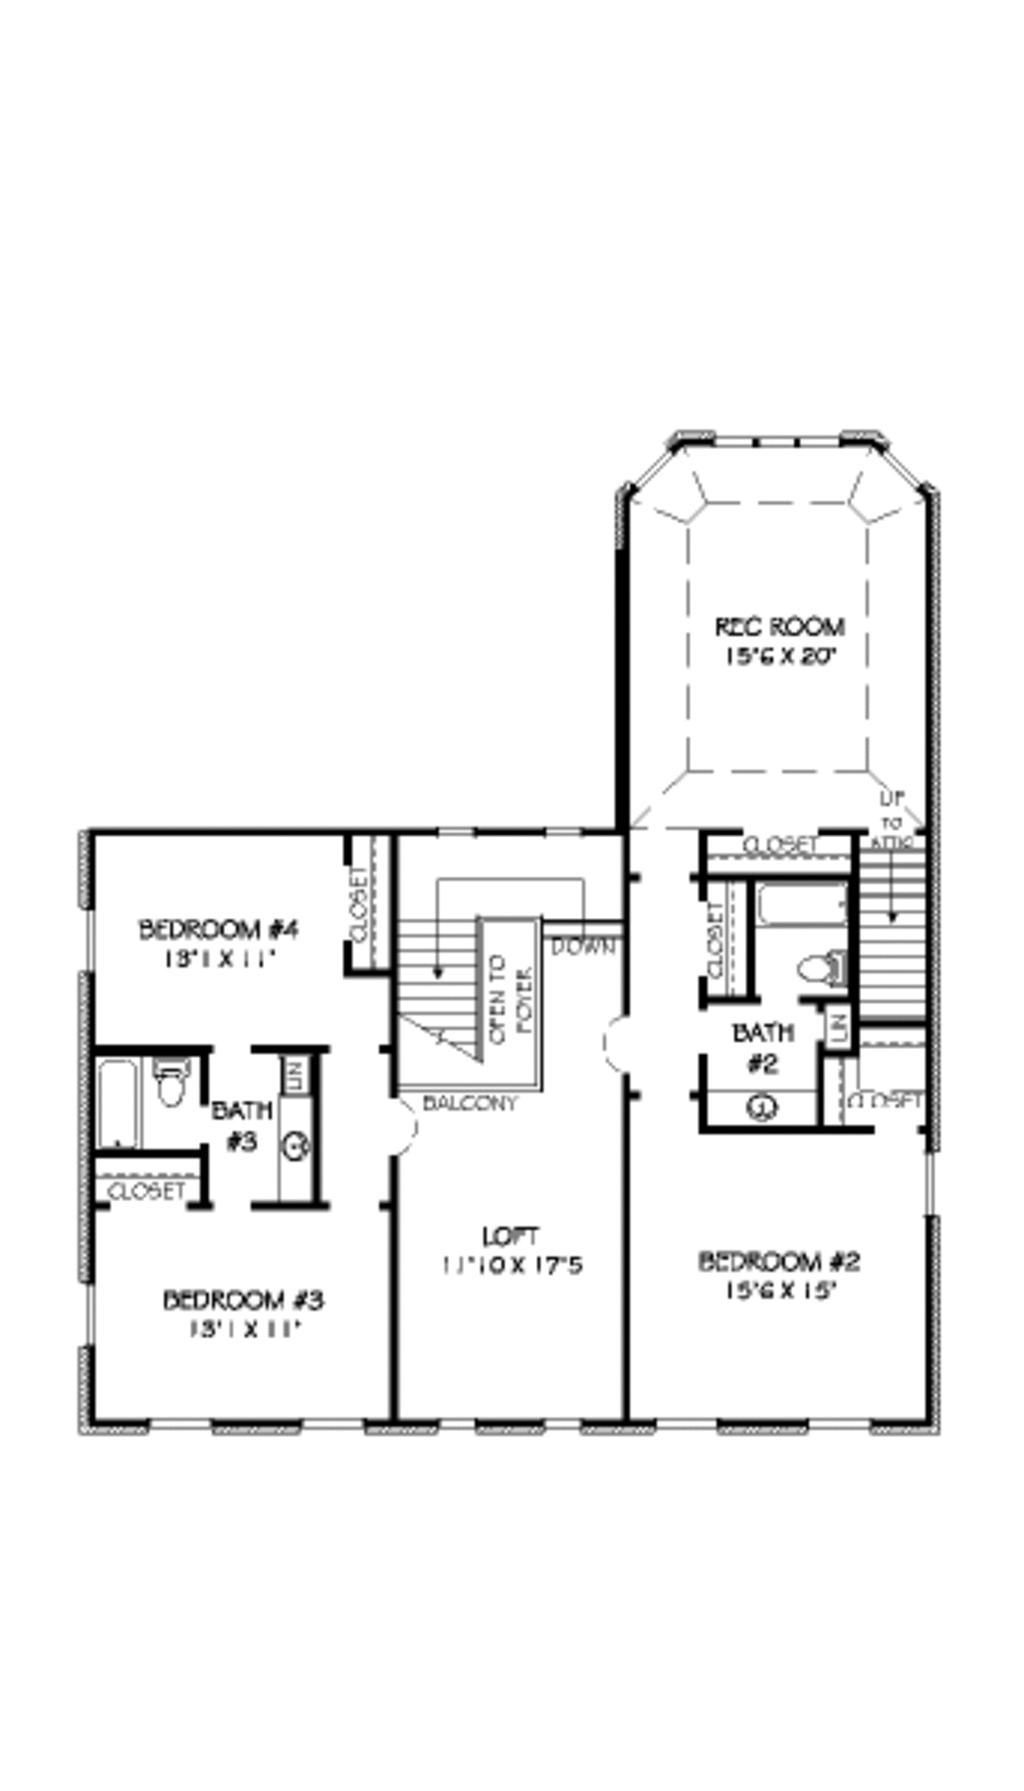large_sink: (785, 937, 868, 1017), (146, 1048, 215, 1112)
small_sink: (693, 1064, 834, 1153)
stairs: (393, 839, 624, 1092), (865, 820, 932, 1039)
tub: (79, 1046, 151, 1153)
window: (686, 412, 854, 459)
